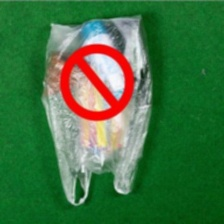plastic_bag: (39, 14, 156, 207)
